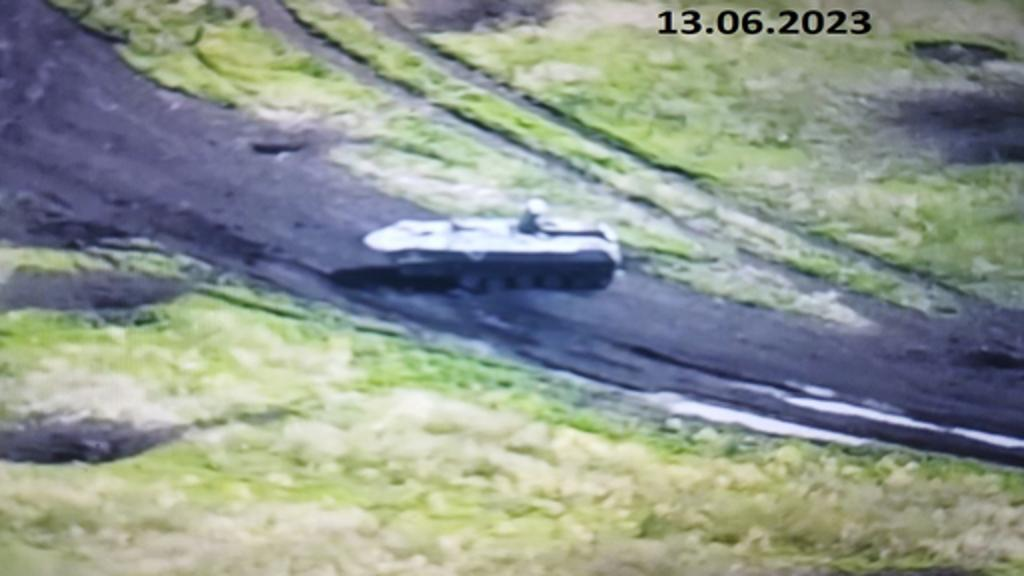APC-IFV: (354, 192, 622, 298)
